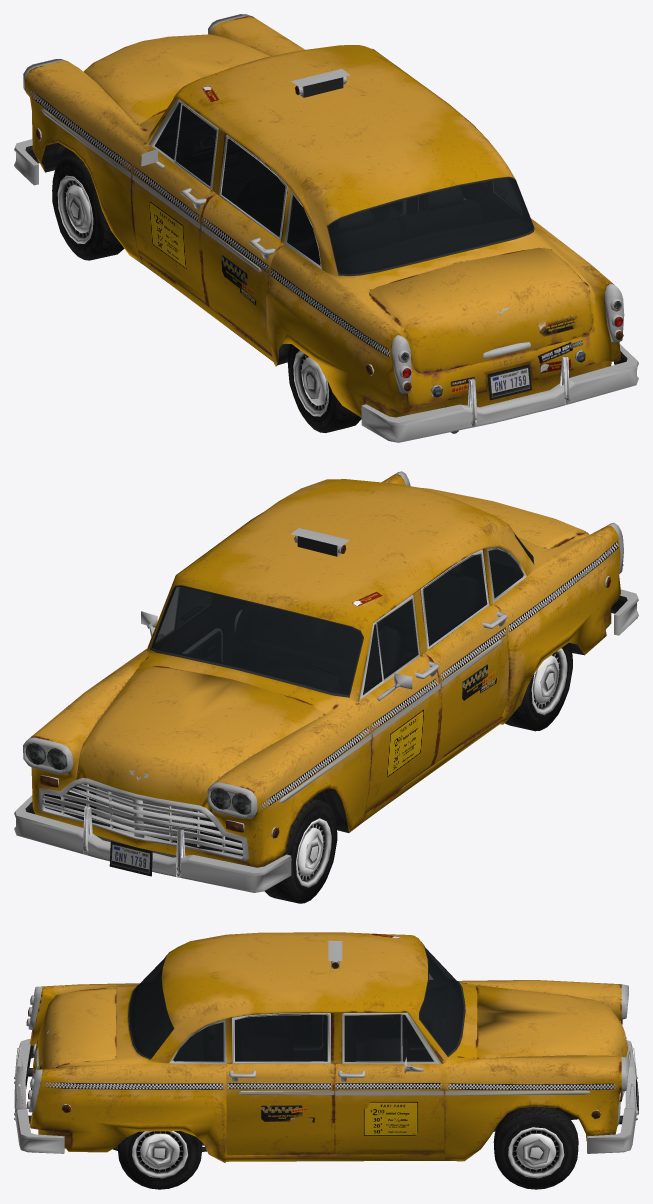
The model's file is canyon_75_taxi.glb.
The picture shows the model from 3 angles, top to bottom: view 1: azimuth 30°, elevation 25°; view 2: azimuth 150°, elevation 25°; view 3: azimuth 270°, elevation 25°; orthographic projection. The views are drawn at different scales.
Visible parts, largest first — view 1: vehicle; view 2: vehicle; view 3: vehicle.
Part boxes in pixels (box(x1,y1,x2,y2)): vehicle: box(14, 14, 638, 442); vehicle: box(14, 471, 638, 903); vehicle: box(14, 932, 638, 1189).
Bounding box in the file's own units: 2.12 × 1.82 × 5.31.
Materials: 8 (8 with a texture image).
